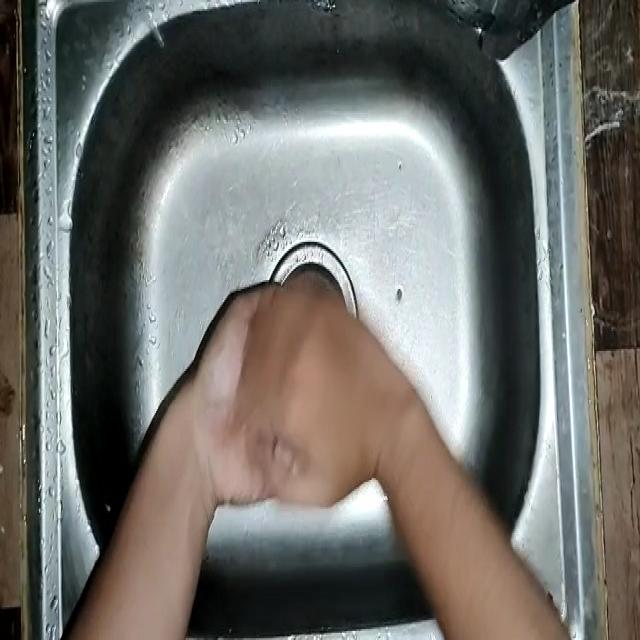step_4: (188, 260, 394, 526)
